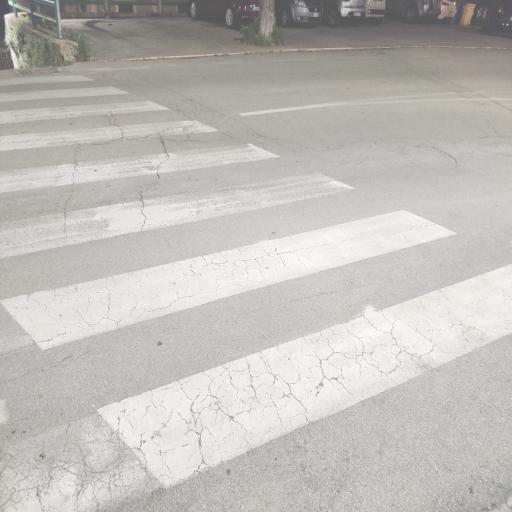crosswalk: (1, 168, 460, 360)
